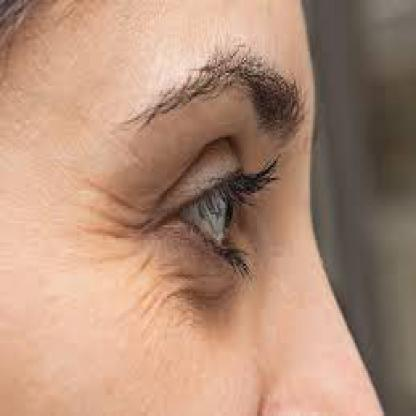puffyeye: (174, 232, 230, 330), (180, 99, 244, 167)
wrinkle: (77, 129, 167, 347)
